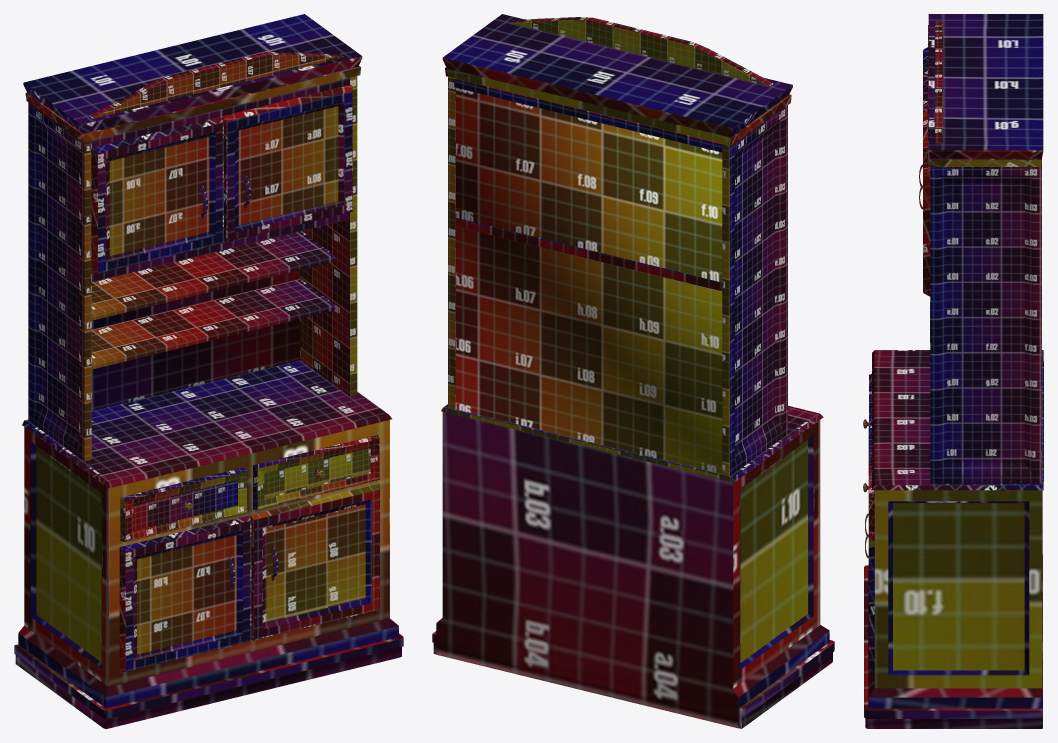
The model's file is CUPBOARD_UNWRAPPED.fbx.
3 views of the same model, side by side, from view 1: azimuth 30°, elevation 25°; view 2: azimuth 150°, elevation 25°; view 3: azimuth 270°, elevation 25° (orthographic). The views are drawn at different scales.
Visible parts, largest first — view 1: exp_test_1.009, exp_test_1.011, exp_test_1.001, exp_test_1.002, exp_test_1.007, exp_test_1.027, exp_test_1.028, exp_test_1.018, exp_test_1.021, exp_test_1.017, exp_test_1.029, exp_test_1.003 (+5 smaller); view 2: exp_test_1.009, exp_test_1.021, exp_test_1.001, exp_test_1.002, exp_test_1, exp_test_1.011, exp_test_1.003, exp_test_1.020, exp_test_1.019; view 3: exp_test_1.009, exp_test_1.003, exp_test_1.002, exp_test_1.011, exp_test_1.028, exp_test_1, exp_test_1.018, exp_test_1.004, exp_test_1.007.
Boxes of the visible parts, x1,y1,x2,y2 form: exp_test_1.009: (14,420,403,728); exp_test_1.011: (22,360,391,488); exp_test_1.001: (28,102,91,461); exp_test_1.002: (23,14,362,142); exp_test_1.007: (91,116,223,274); exp_test_1.027: (119,515,251,672); exp_test_1.028: (222,85,352,242); exp_test_1.018: (250,484,379,640); exp_test_1.021: (91,270,300,410); exp_test_1.017: (91,279,334,369); exp_test_1.029: (91,231,334,320); exp_test_1.003: (300,76,357,396); exp_test_1.009: (432,412,834,728); exp_test_1.021: (455,87,722,473); exp_test_1.001: (722,105,787,476); exp_test_1.002: (442,14,792,145); exp_test_1: (510,17,773,86); exp_test_1.011: (441,404,823,482); exp_test_1.003: (448,77,455,409); exp_test_1.020: (454,78,722,152); exp_test_1.019: (454,217,722,291); exp_test_1.009: (864,490,1042,728); exp_test_1.003: (930,167,1041,483); exp_test_1.002: (928,14,1043,167); exp_test_1.011: (872,350,1043,490); exp_test_1.028: (923,110,930,296); exp_test_1: (934,21,943,143); exp_test_1.018: (868,490,874,670); exp_test_1.004: (869,438,874,540); exp_test_1.007: (923,47,927,112).
Bounding box in the file's own units: 67.63 × 129 × 35.46.
